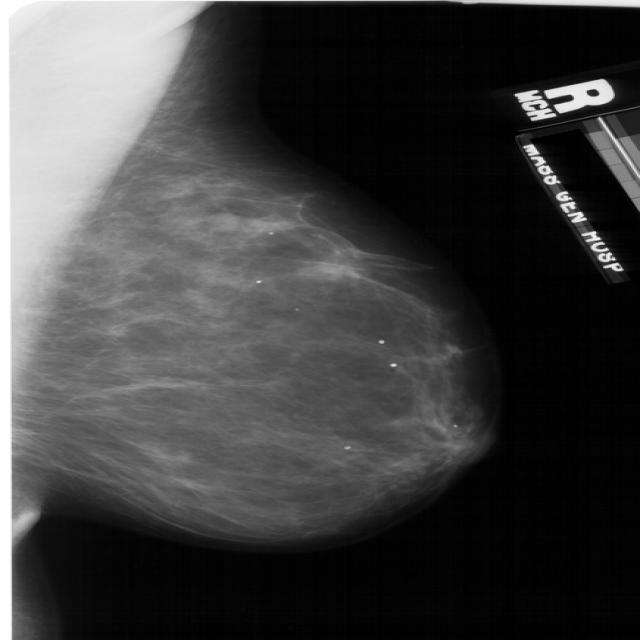tumour: (203, 210, 238, 232)
